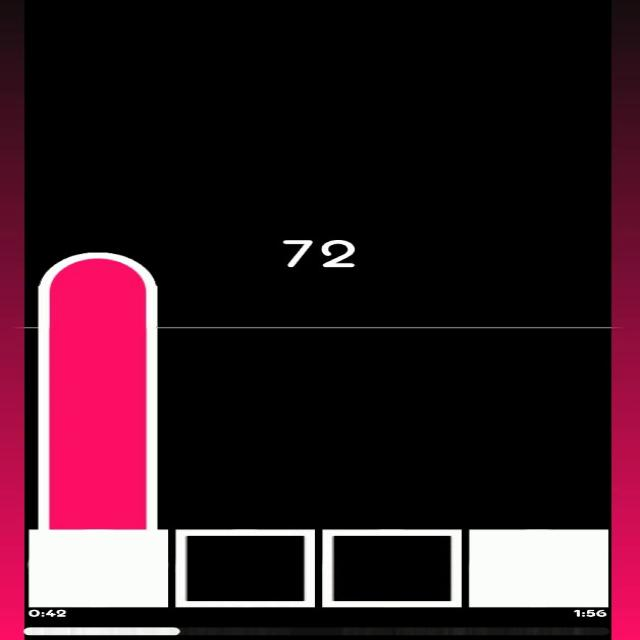end_hold: (38, 242, 158, 302)
